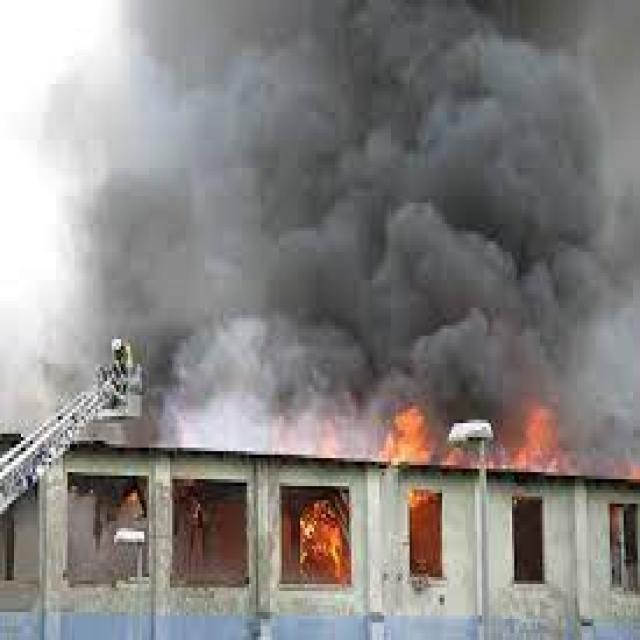Fire: (526, 412, 594, 475), (308, 507, 358, 586), (396, 412, 438, 470)
Smoke: (140, 0, 602, 369)
